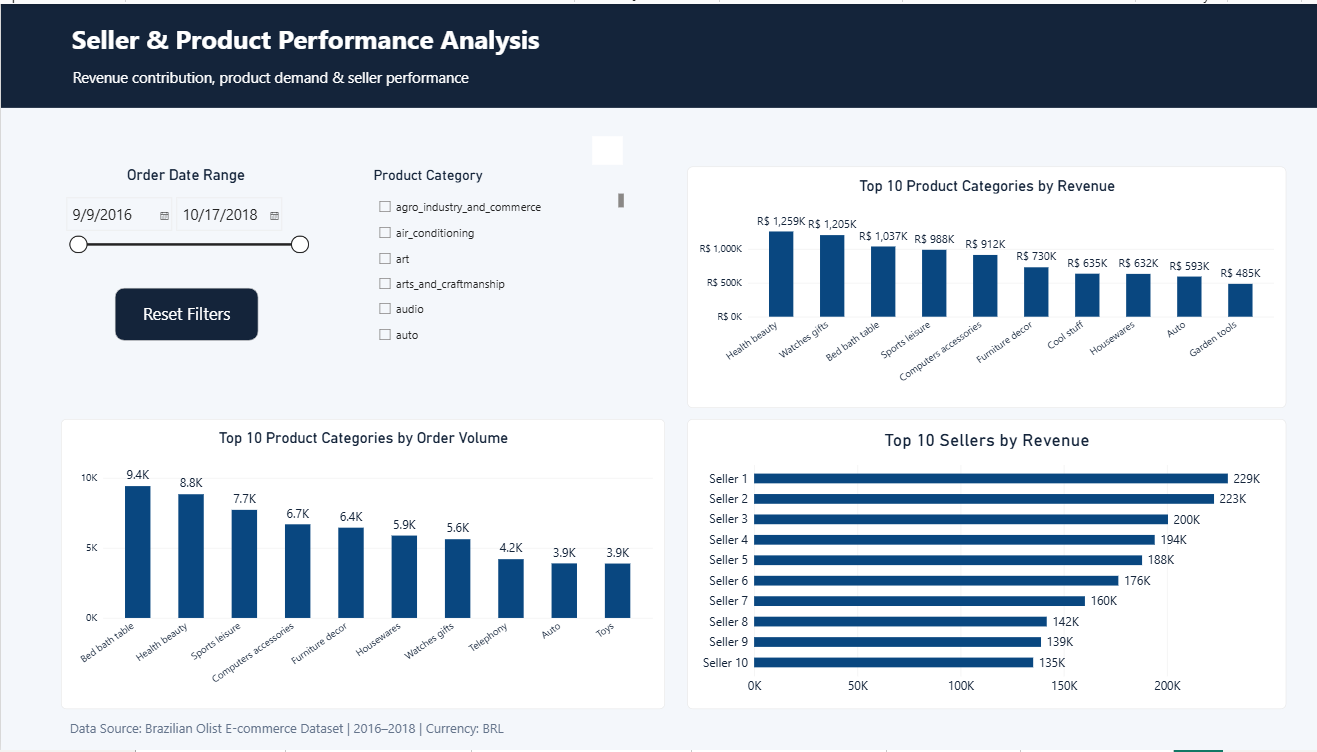

The dashboard page shown, as its layout file describes it:
{"tool":"powerbi","page":{"name":"Seller & Product Analysis","canvas":[1920,1080],"ordinal":2},"visuals":[{"type":"shape","box":[0,0,1920.4,150.7],"z":0},{"type":"clusteredBarChart","title":"Top 10 Sellers by Revenue","fields":{"Category":["Seller Revenue Summary.Seller Label"],"Y":["Sum(Seller Revenue Summary.Seller Revenue)"]},"box":[993.5,600.8,866.8,419.8],"z":1000},{"type":"columnChart","title":" Top 10 Product Categories by Revenue","fields":{"Category":["olist_products_dataset.Clean Category"],"Y":["olist_order_items_dataset.Total Revenue"]},"box":[993.5,235.3,866.8,349.3],"z":2000},{"type":"clusteredColumnChart","title":"Top 10 Product Categories by Order Volume","fields":{"Category":["olist_products_dataset.Clean Category"],"Y":["olist_customers_dataset.Category Orders"]},"box":[86.9,600.8,874.1,419.8],"z":3000},{"type":"textbox","box":[91.9,25.7,797.6,49.6],"z":4000},{"type":"textbox","box":[91.9,90,718.5,38.6],"z":5000},{"type":"textbox","box":[99.5,1035.1,653.3,45.2],"z":6000},{"type":"slicer","title":"Order Date Range","fields":{"Values":["olist_orders_dataset.order_purchase_timestamp"]},"box":[86.9,235.3,361.9,153.8],"z":8000},{"type":"slicer","title":"Product Category","fields":{"Values":["olist_products_dataset.English Category"]},"box":[539.3,235.3,362.5,255],"z":9000},{"type":"actionButton","box":[164.7,410.8,208.2,76.7],"z":10000}]}

Visuals, with their boxes in screenshot pixels (x1, y1, x2, y2), scaled from the page's 1920x1080 canvas onto the 1317x752 screenshot:
shape: left=0, top=0, right=1316, bottom=105
"Top 10 Sellers by Revenue" clusteredBarChart: left=681, top=418, right=1276, bottom=711
" Top 10 Product Categories by Revenue" columnChart: left=681, top=164, right=1276, bottom=407
"Top 10 Product Categories by Order Volume" clusteredColumnChart: left=60, top=418, right=659, bottom=711
textbox: left=63, top=18, right=610, bottom=52
textbox: left=63, top=63, right=556, bottom=90
textbox: left=68, top=721, right=516, bottom=751
"Order Date Range" slicer: left=60, top=164, right=308, bottom=271
"Product Category" slicer: left=370, top=164, right=619, bottom=341
actionButton: left=113, top=286, right=256, bottom=339
